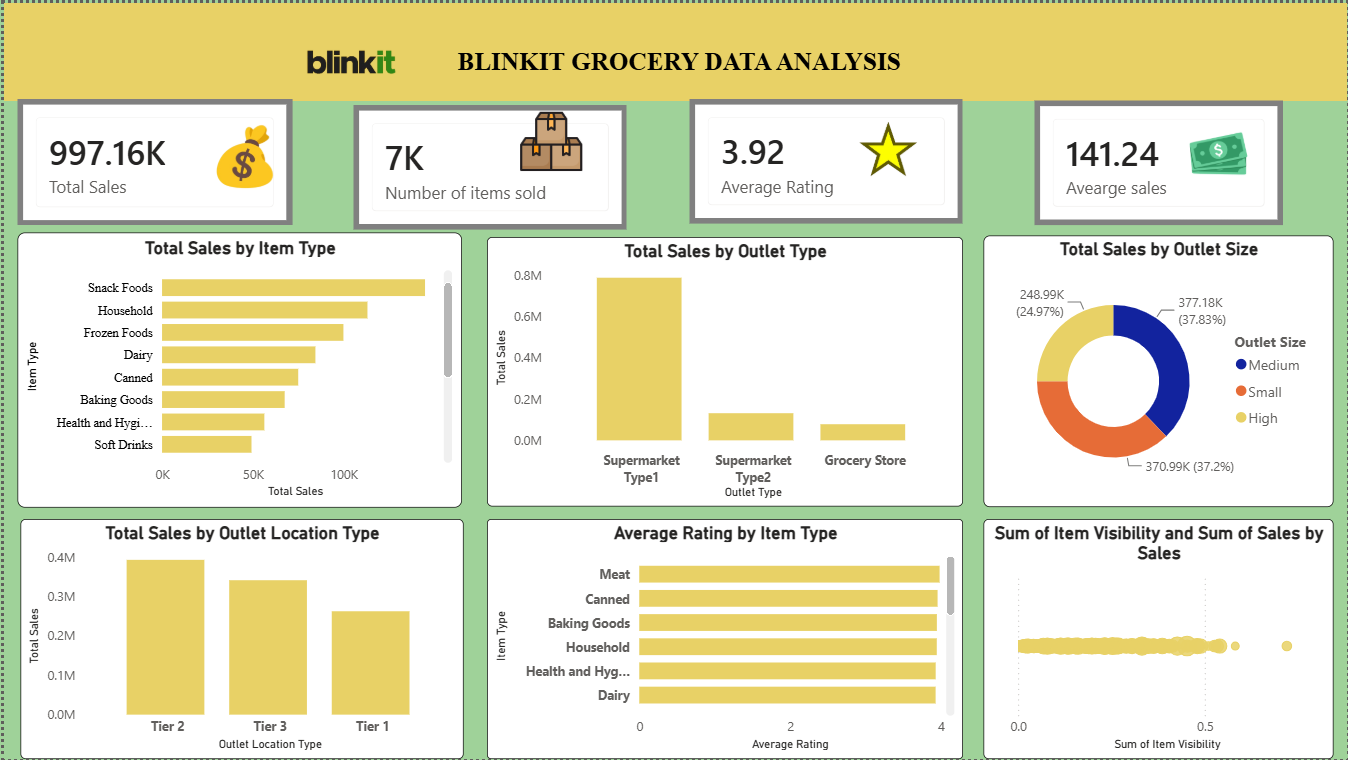

The page's visual inventory and layout, read from the dashboard file:
{"tool":"powerbi","page":{"name":"Page 1","canvas":[1280,720],"ordinal":0},"visuals":[{"type":"textbox","box":[0,0,1280,93.3],"z":0},{"type":"image","box":[186.2,6.1,290.7,101.5],"z":1000},{"type":"cardVisual","fields":{"Data":["BlinkIT Grocery Data.Total Sales"]},"box":[13.3,91.7,261.7,120],"z":1001},{"type":"cardVisual","fields":{"Data":["BlinkIT Grocery Data.Number of items sold"]},"box":[333.3,96.7,260,118.3],"z":1002},{"type":"cardVisual","fields":{"Data":["BlinkIT Grocery Data.Average Rating"]},"box":[653.3,91.7,260,118.3],"z":1003},{"type":"cardVisual","fields":{"Data":["BlinkIT Grocery Data.Avearge sales"]},"box":[981.7,93.3,236.7,118.3],"z":1004},{"type":"image","box":[100,71.7,258.3,150],"z":1005},{"type":"image","box":[488.3,91.7,65,76.7],"z":1006},{"type":"image","box":[813.3,110,58.3,58.3],"z":1007},{"type":"image","box":[1100,110,113.3,66.7],"z":1008},{"type":"barChart","fields":{"Y":["BlinkIT Grocery Data.Total Sales"],"Category":["BlinkIT Grocery Data.Item Type"]},"box":[13.3,218.3,423.3,261.7],"z":1009},{"type":"clusteredColumnChart","fields":{"Category":["BlinkIT Grocery Data.Outlet Type"],"Y":["BlinkIT Grocery Data.Total Sales"]},"box":[460,223.3,453.3,256.7],"z":1010},{"type":"donutChart","fields":{"Category":["BlinkIT Grocery Data.Outlet Size"],"Y":["BlinkIT Grocery Data.Total Sales"]},"box":[933.3,221.7,333.3,258.3],"z":1011},{"type":"columnChart","fields":{"Category":["BlinkIT Grocery Data.Outlet Location Type"],"Y":["BlinkIT Grocery Data.Total Sales"]},"box":[15,491.7,421.7,228.3],"z":1012},{"type":"barChart","fields":{"Category":["BlinkIT Grocery Data.Item Type"],"Y":["BlinkIT Grocery Data.Average Rating"]},"box":[460,491.7,453.3,228.3],"z":1013},{"type":"scatterChart","fields":{"X":["Sum(BlinkIT Grocery Data.Item Visibility)"],"Category":["BlinkIT Grocery Data.Sales"],"Size":["Sum(BlinkIT Grocery Data.Sales)"]},"box":[933.3,491.7,333.3,228.3],"z":1014}]}

Visuals, with their boxes in screenshot pixels (x1, y1, x2, y2), scaled from the page's 1280x720 canvas onto the 1348x760 screenshot:
textbox: (0,0,1347,98)
image: (196,6,502,114)
cardVisual - BlinkIT Grocery Data.Total Sales: (14,97,290,223)
cardVisual - BlinkIT Grocery Data.Number of items sold: (351,102,625,227)
cardVisual - BlinkIT Grocery Data.Average Rating: (688,97,962,222)
cardVisual - BlinkIT Grocery Data.Avearge sales: (1034,98,1283,223)
image: (105,76,377,234)
image: (514,97,583,178)
image: (857,116,918,178)
image: (1158,116,1278,187)
barChart - BlinkIT Grocery Data.Total Sales x BlinkIT Grocery Data.Item Type: (14,230,460,507)
clusteredColumnChart - BlinkIT Grocery Data.Outlet Type x BlinkIT Grocery Data.Total Sales: (484,236,962,507)
donutChart - BlinkIT Grocery Data.Outlet Size x BlinkIT Grocery Data.Total Sales: (983,234,1334,507)
columnChart - BlinkIT Grocery Data.Outlet Location Type x BlinkIT Grocery Data.Total Sales: (16,519,460,759)
barChart - BlinkIT Grocery Data.Item Type x BlinkIT Grocery Data.Average Rating: (484,519,962,759)
scatterChart - Sum(BlinkIT Grocery Data.Item Visibility) x BlinkIT Grocery Data.Sales: (983,519,1334,759)
